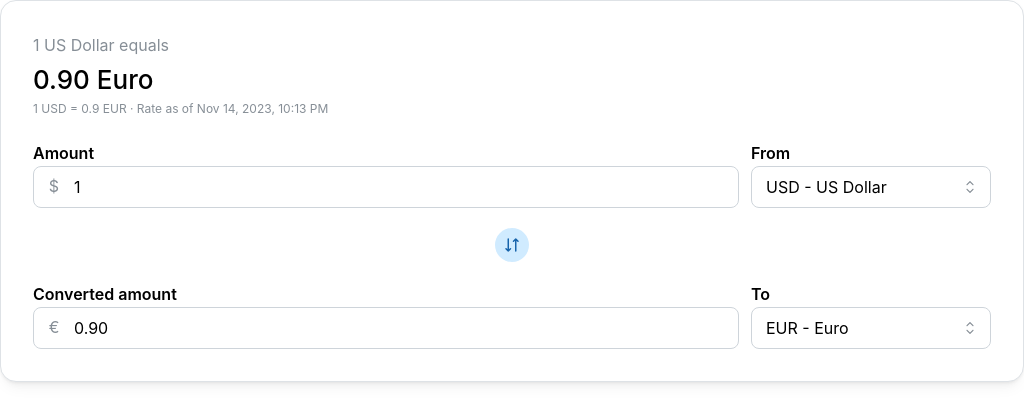
Test: CurrencyConverter › selects a currency from the searchable list
The width and height of the screenshot is (1024, 402).
Expected: the heading "0.90 Euro" is shown, [33, 64, 153, 95]
Click the dropdown labelled "To" at (871, 328), box [751, 307, 991, 349]
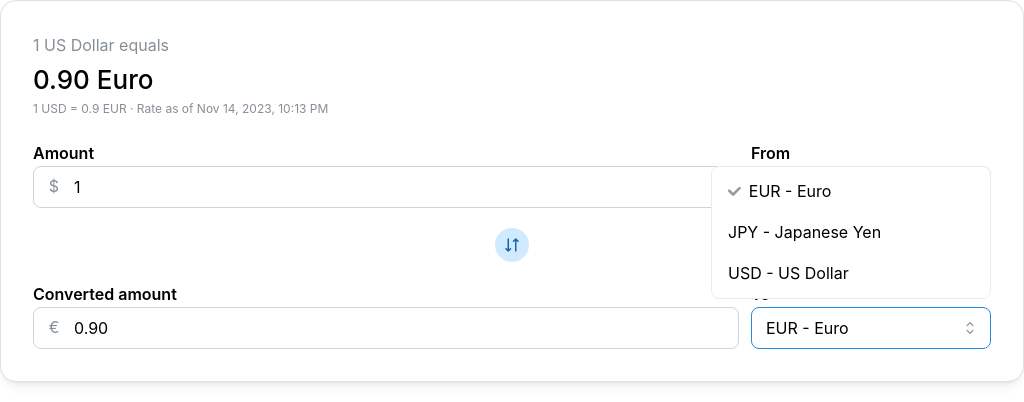
Click the option "JPY - Japanese Yen" at (805, 232), box [728, 222, 881, 242]
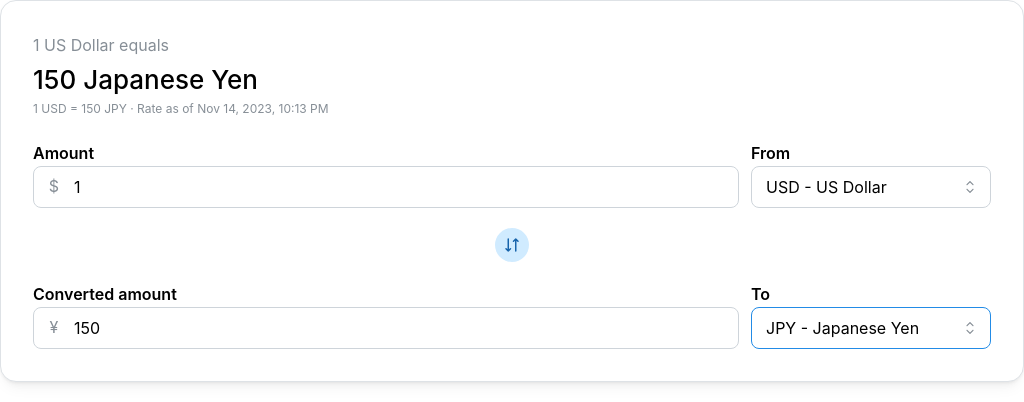
Now the heading with test id "conversion-result" reads "150 Japanese Yen", box [33, 64, 258, 95]
